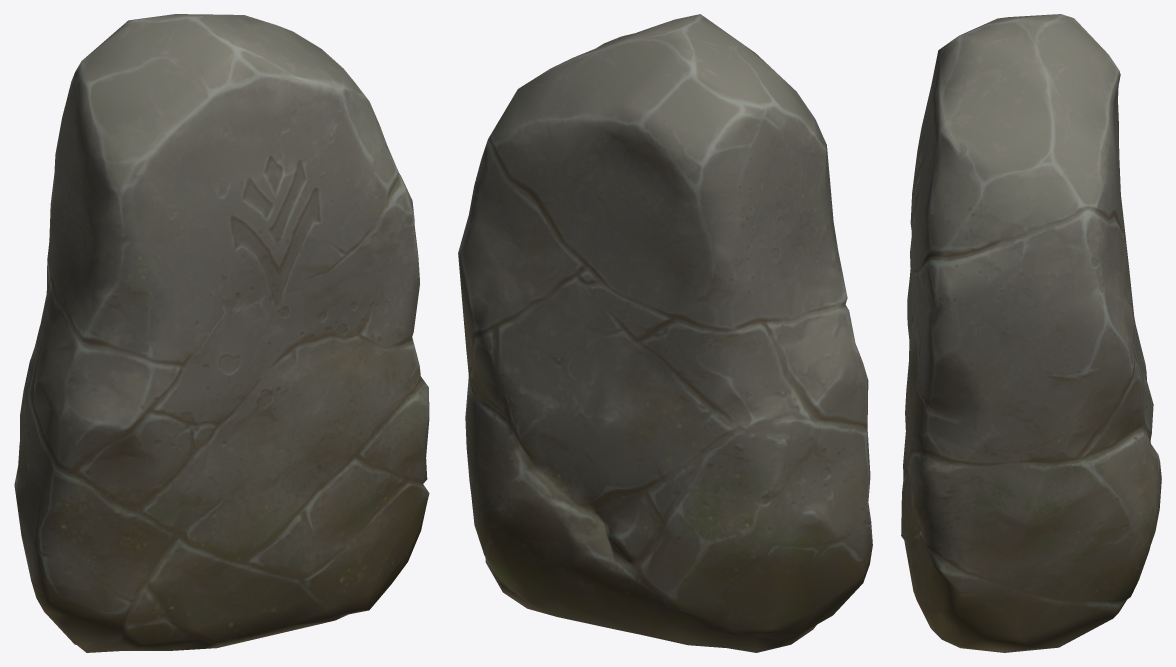
File: MSH_fwOF_Standing_Stone_5.fbx
3 renders of one model, left to right at view 1: azimuth 30°, elevation 25°; view 2: azimuth 150°, elevation 25°; view 3: azimuth 270°, elevation 25°, orthographic. The views are drawn at different scales.
Visible parts, largest first — view 1: MSH_fwOF_Standing_Stone_5_LOD0; view 2: MSH_fwOF_Standing_Stone_5_LOD0; view 3: MSH_fwOF_Standing_Stone_5_LOD0.
Part boxes in pixels (<box>): MSH_fwOF_Standing_Stone_5_LOD0: <box>14,14,429,652</box>; MSH_fwOF_Standing_Stone_5_LOD0: <box>458,14,872,652</box>; MSH_fwOF_Standing_Stone_5_LOD0: <box>901,14,1161,652</box>.
Size of what is drawn, in the model's own units: 3.05 by 4.7 by 1.97.
